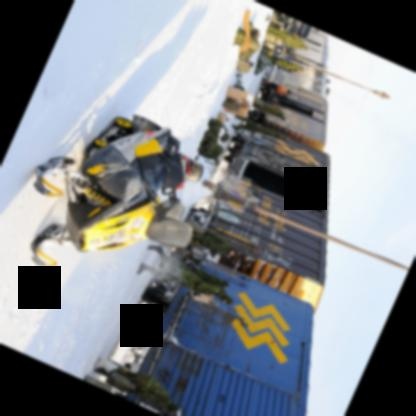backpack: (197, 130, 222, 164), (193, 267, 228, 286), (206, 118, 228, 142), (232, 28, 243, 45), (270, 105, 281, 112)
